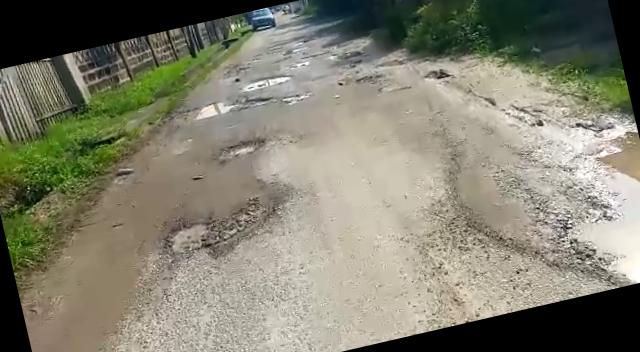pothole: (539, 130, 640, 297), (154, 186, 296, 268), (187, 89, 276, 123), (216, 134, 272, 162), (238, 70, 294, 92)
